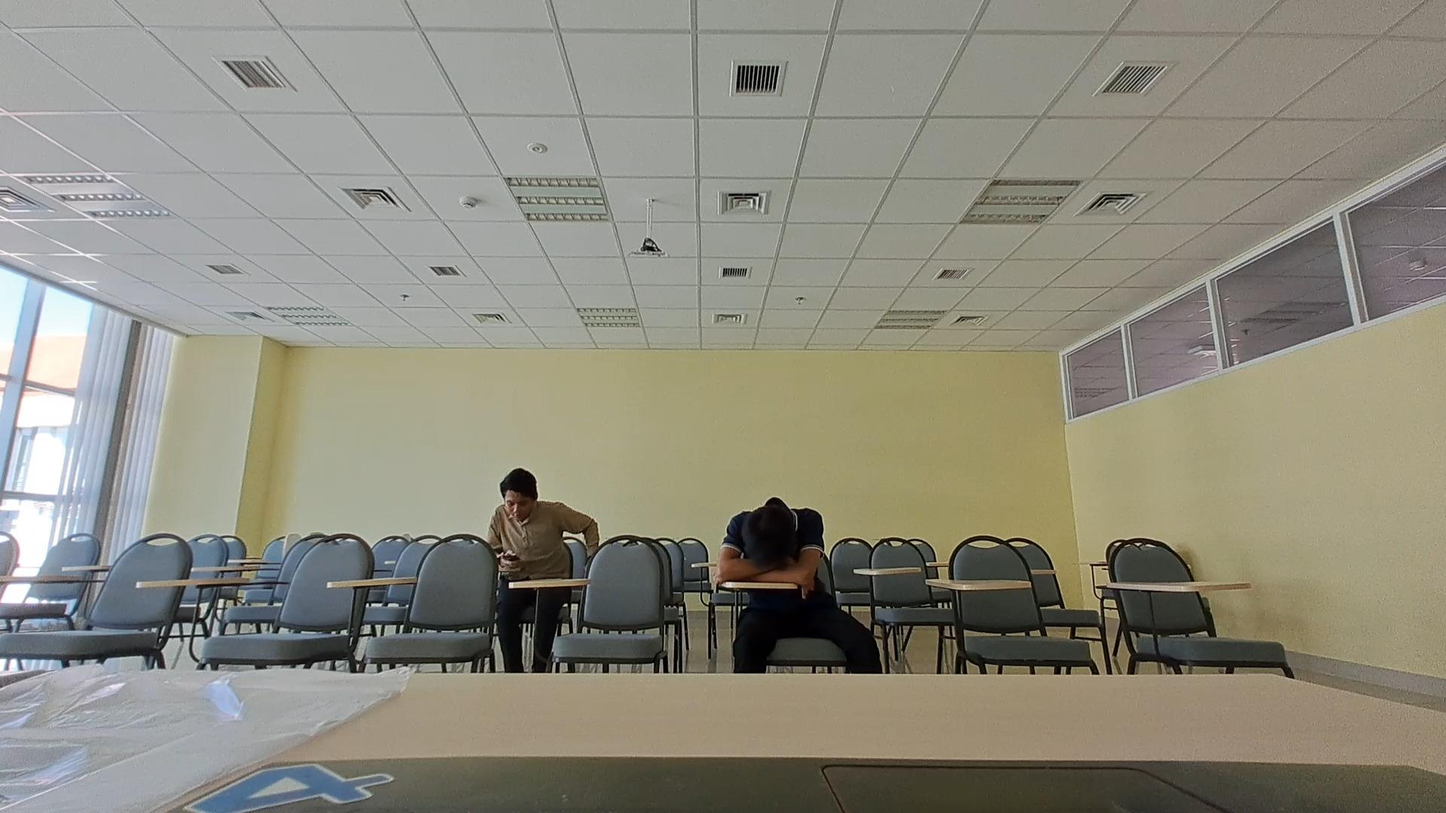phone: (485, 453, 587, 581)
sleep: (716, 497, 833, 587)
